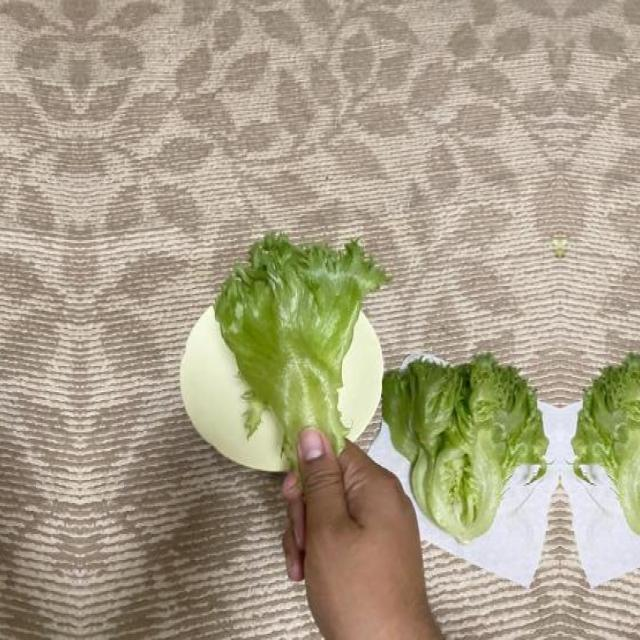healthy: (377, 348, 553, 550), (216, 234, 382, 448), (567, 348, 640, 550)
